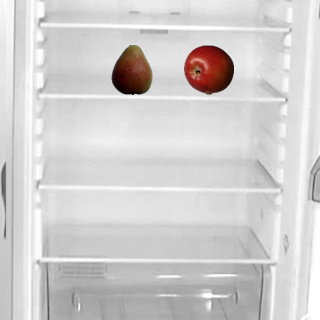Apple Braeburn: (183, 44, 233, 94)
Pear Forelle: (106, 44, 156, 94)
